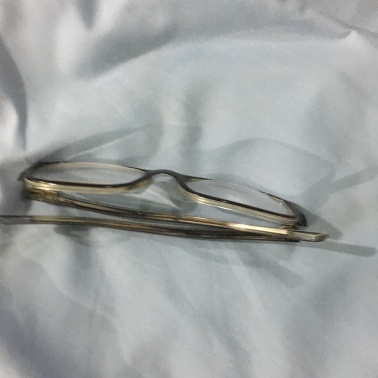glasses: (23, 154, 334, 254)
